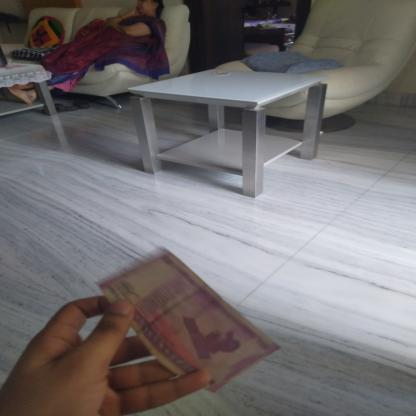New2000Back: (100, 256, 258, 387)
